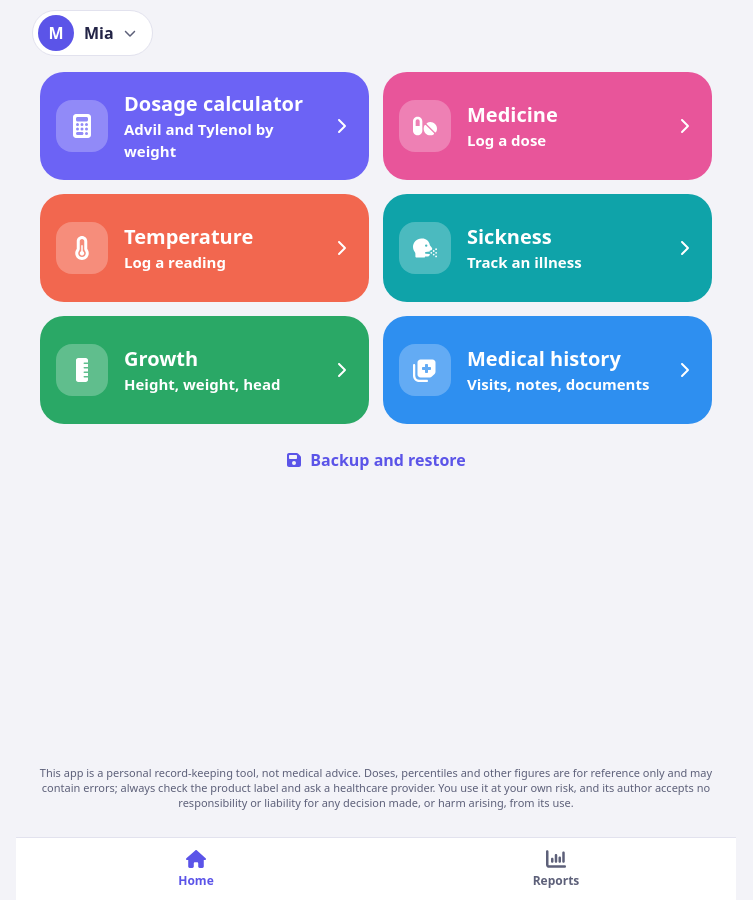
App › opens a log page from Home and returns
The image size is (753, 900).
Click the button "Temperature Log a reading".
click(204, 248)  # box left=40, top=194, right=369, bottom=302
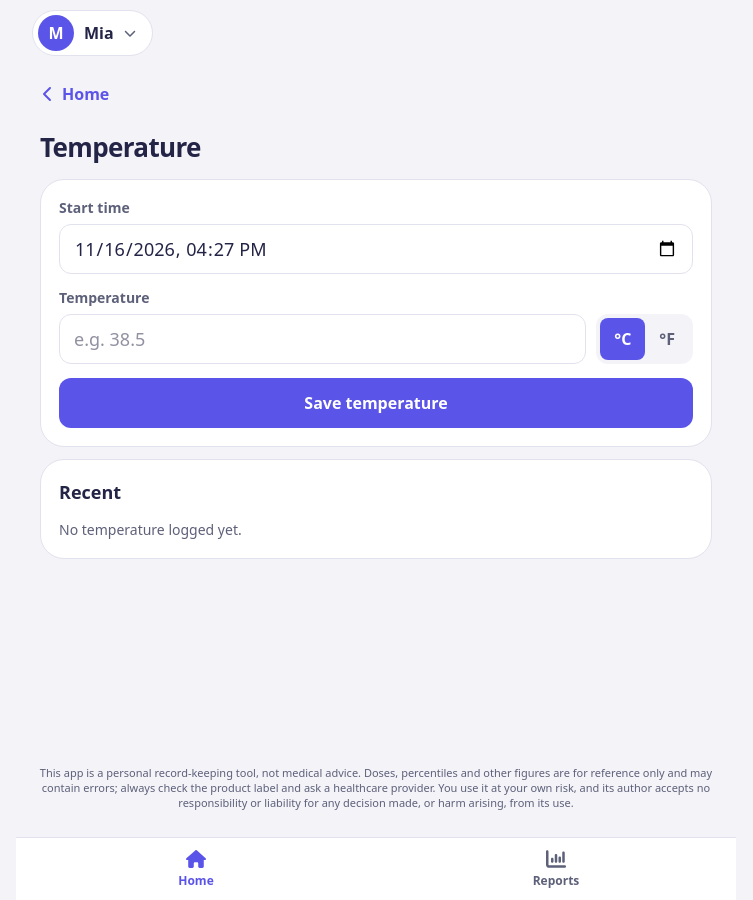
Expected: the heading "Temperature" is shown, left=40, top=129, right=201, bottom=165
Click the 1st button "Home".
click(79, 94)  # box left=40, top=72, right=117, bottom=116
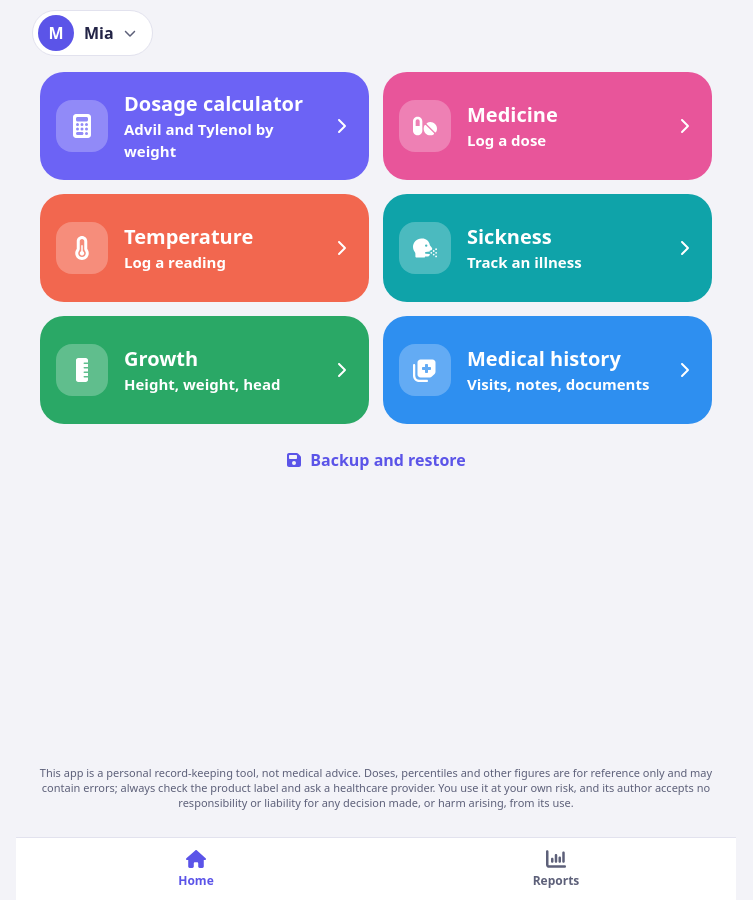
Expected: the button "Dosage calculator Advil and Tylenol by weight" is shown, left=40, top=72, right=369, bottom=180
